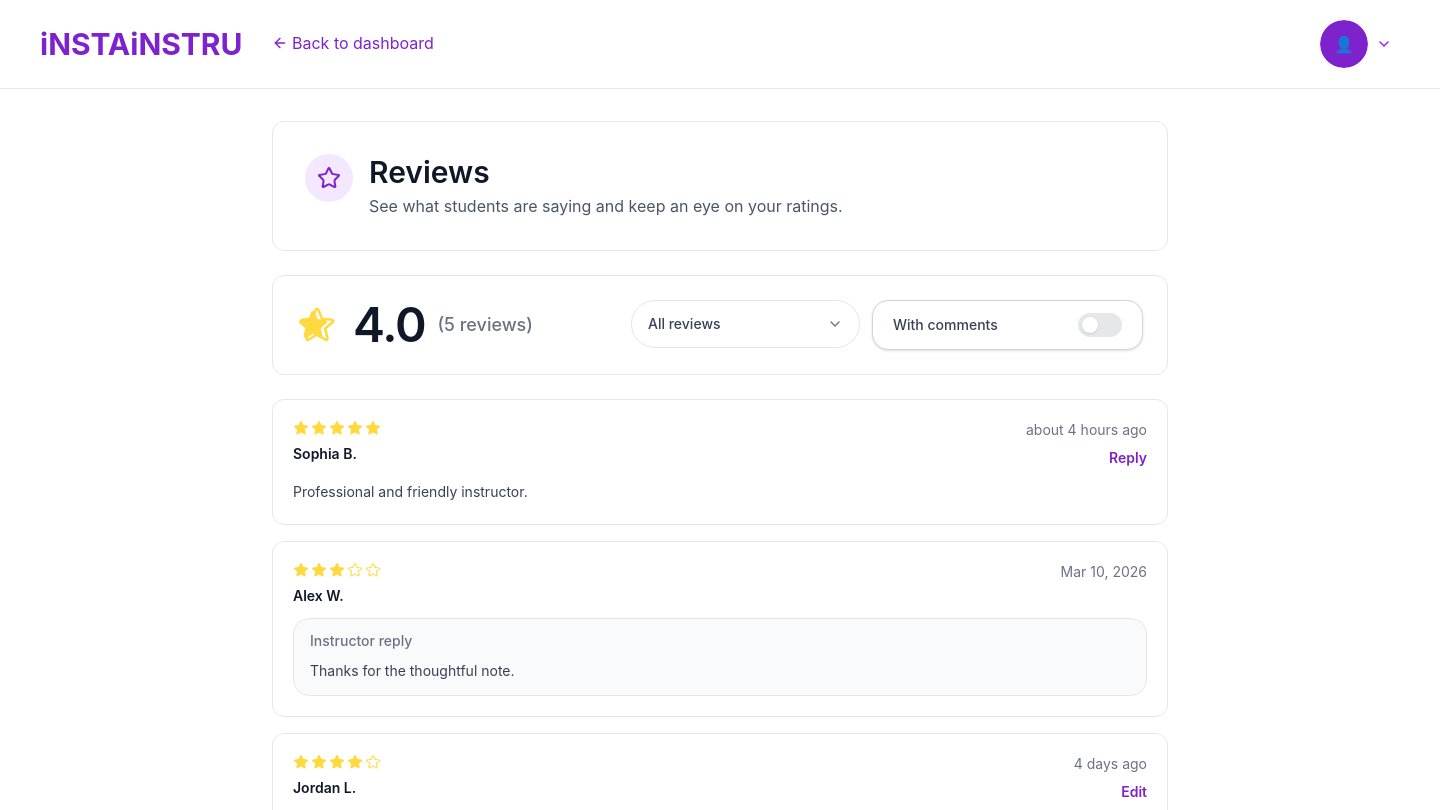
Scenario: InstructorReviewsPage › opens a reply form for reviews without an existing response
What coordinates should you click on to do the following:
click the button "Reply"
I would click on:
 (1128, 458)
Its box is [1109, 448, 1147, 468].
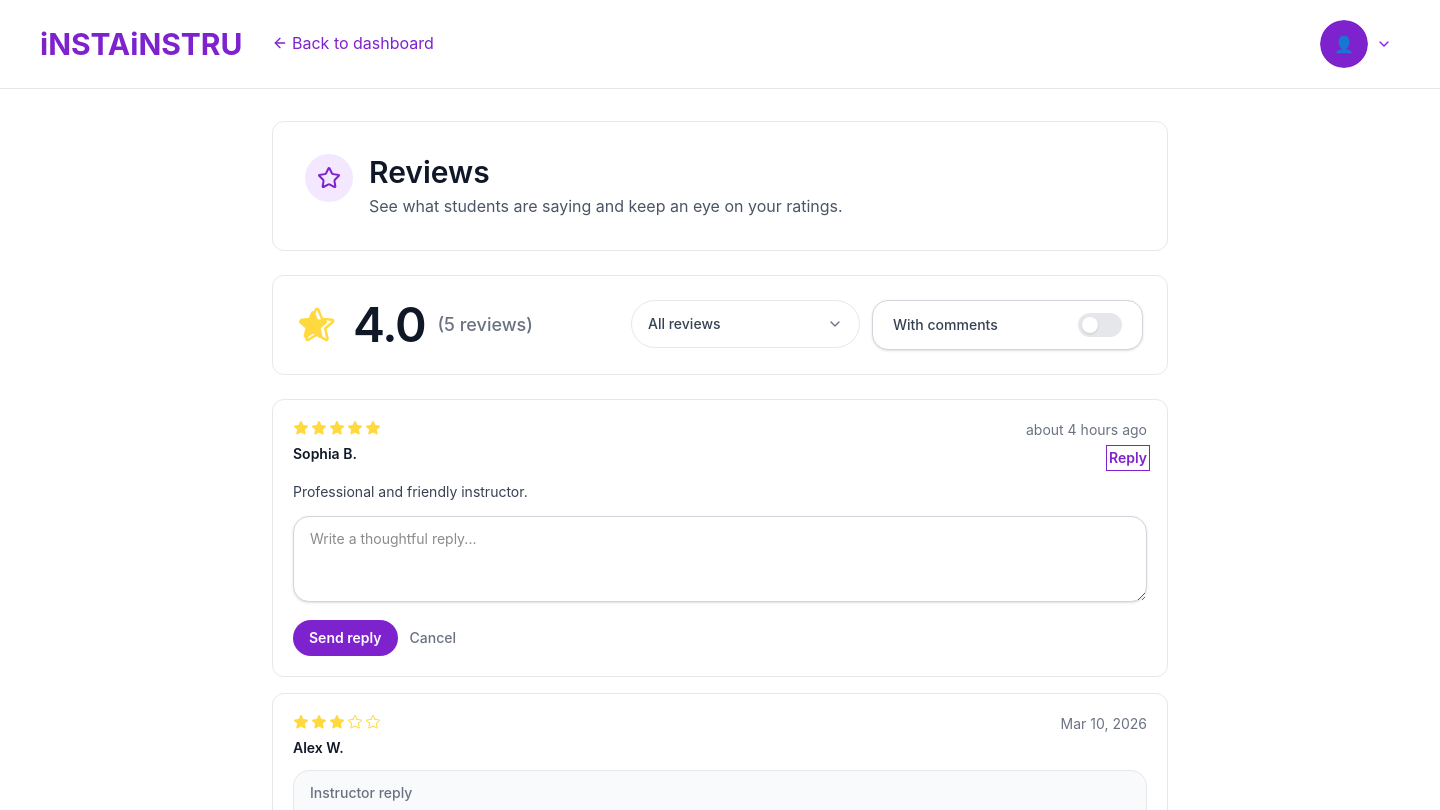
Check: the text box named "Reply to Sophia B." is shown, box [293, 516, 1147, 602]
Check: the button "Send reply" is shown, box [293, 620, 398, 656]
